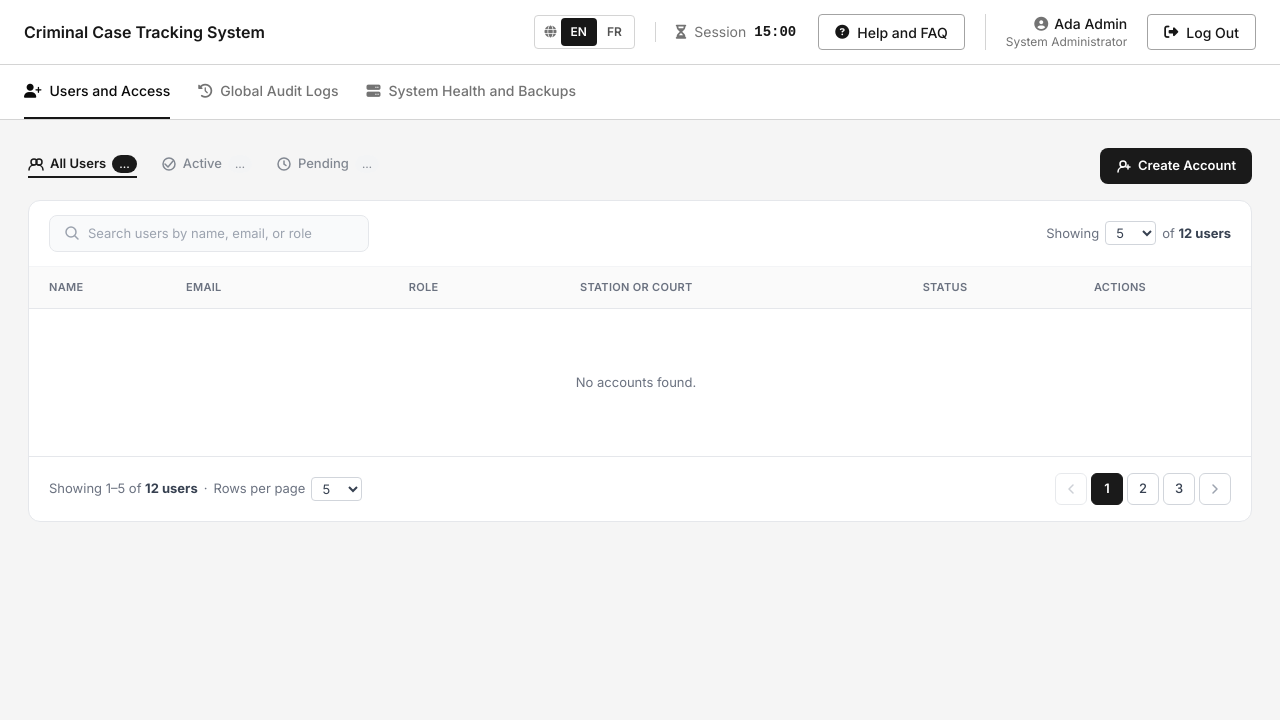
Scenario: administration console › Pattern B: 5 rows by default, page controls, and a size change returns to page 1
Check: the element with test id "range" reads "Showing 1–5 of 12 users", box x1=49 y1=479 x2=198 y2=499
Click the button named "Page 3". click: (1179, 489)
box: x1=1163 y1=473 x2=1195 y2=505
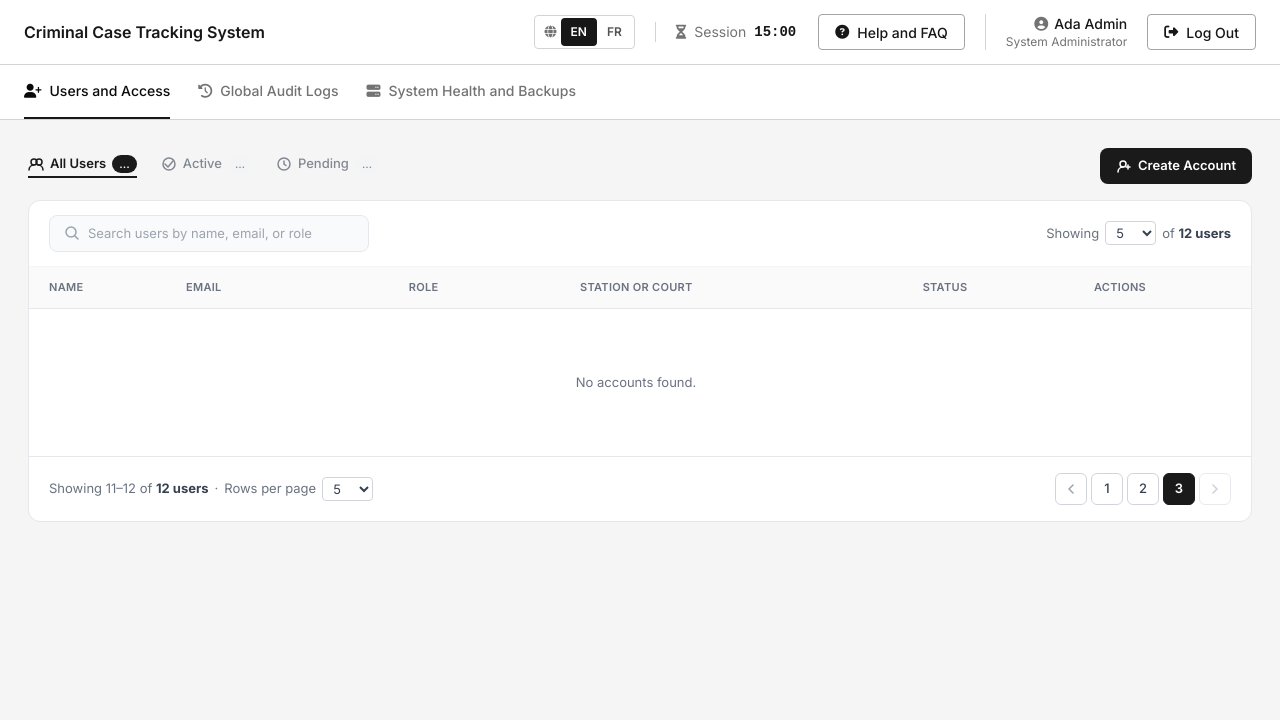
Check: the element with test id "range" reads "Showing 11–12 of 12 users", box x1=49 y1=479 x2=208 y2=499
The selector above the table and the one under it are the same setting.
Select "10" in the dropdown named "Rows per page" next to "Rows per page". click: (348, 489)
box: x1=322 y1=477 x2=373 y2=501
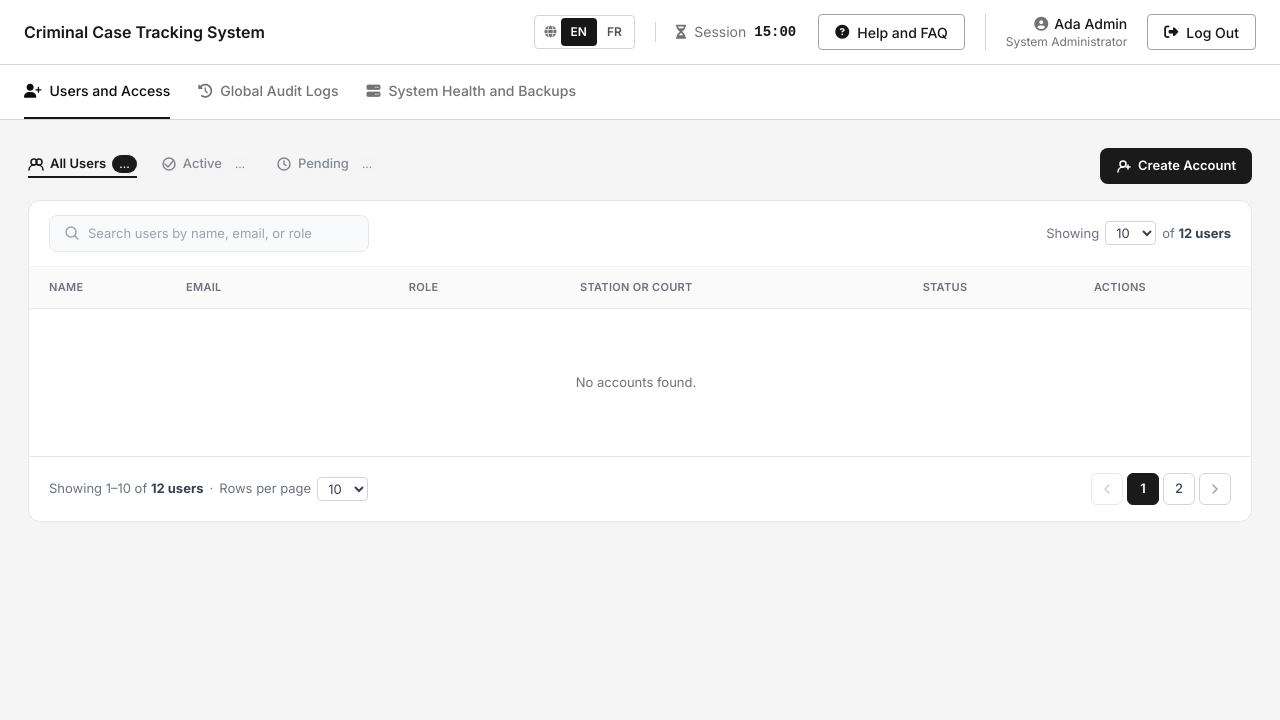
Check: the element with test id "range" reads "Showing 1–10 of 12 users", box x1=49 y1=479 x2=204 y2=499
Check: the 1st dropdown named "Rows per page" shows "10", box x1=1105 y1=221 x2=1156 y2=245
